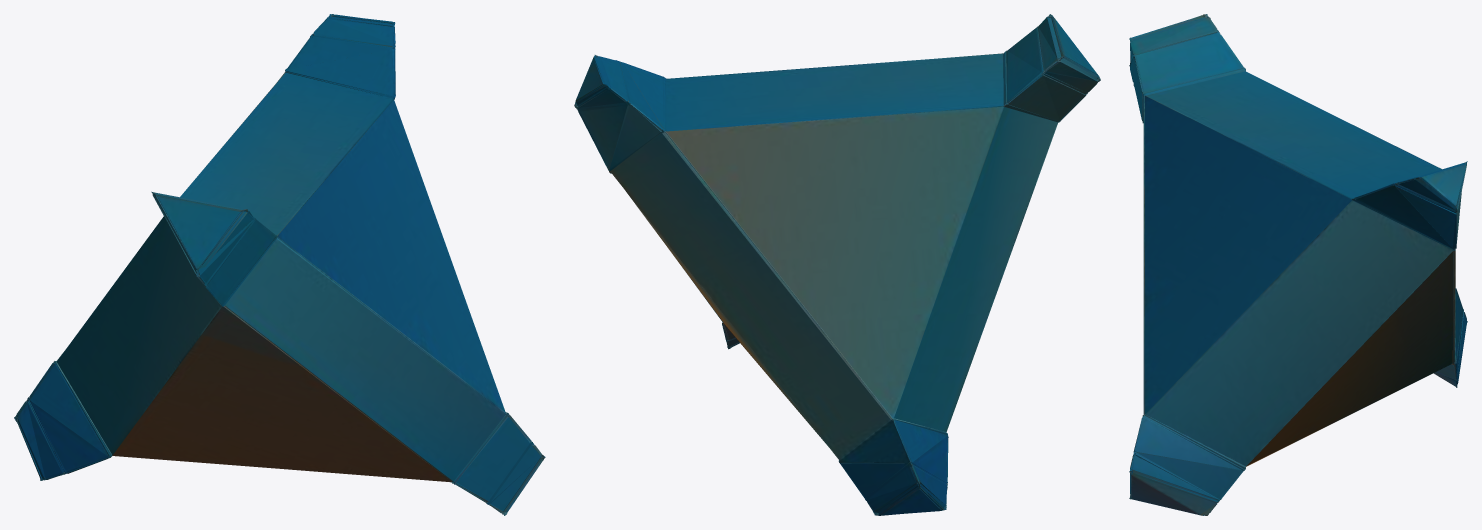
Rendered from penrose-loop.glb.
The picture shows the model from 3 angles, left to right: view 1: azimuth 30°, elevation 25°; view 2: azimuth 150°, elevation 25°; view 3: azimuth 270°, elevation 25°; orthographic projection. The views are drawn at different scales.
Visible parts, largest first — view 1: tripo_node_f52b1a35-90fd-4824-8c2d-6050e2a08024; view 2: tripo_node_f52b1a35-90fd-4824-8c2d-6050e2a08024; view 3: tripo_node_f52b1a35-90fd-4824-8c2d-6050e2a08024.
Part boxes in pixels (bbox=[...]): tripo_node_f52b1a35-90fd-4824-8c2d-6050e2a08024: bbox=[14, 14, 545, 515]; tripo_node_f52b1a35-90fd-4824-8c2d-6050e2a08024: bbox=[574, 14, 1100, 515]; tripo_node_f52b1a35-90fd-4824-8c2d-6050e2a08024: bbox=[1129, 14, 1467, 515].
Size of the model in its own units: 0.9941 by 0.998 by 0.877.
1 material, 1 textured.
